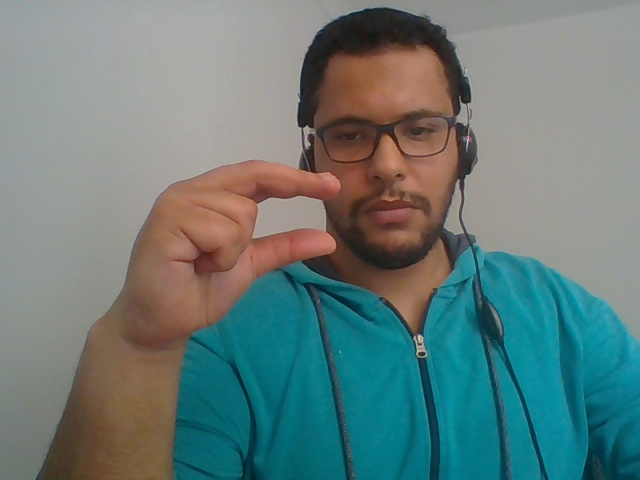no: (98, 136, 344, 356)
